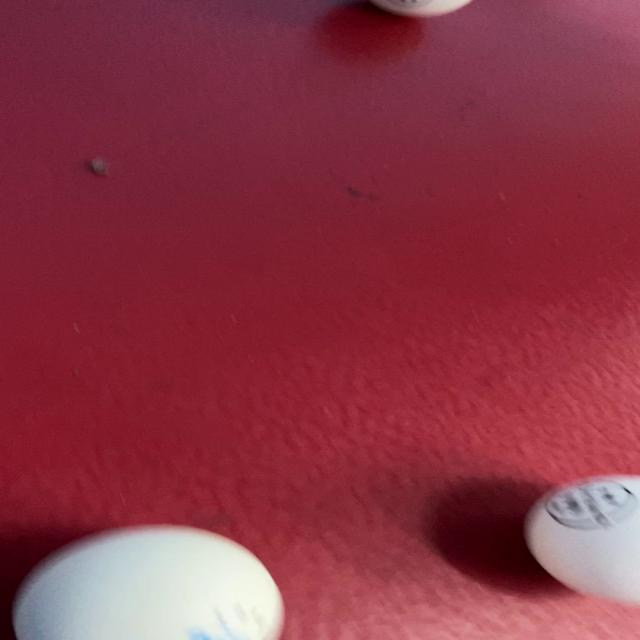ping-pong-ball: (8, 499, 300, 640), (504, 439, 640, 623)
